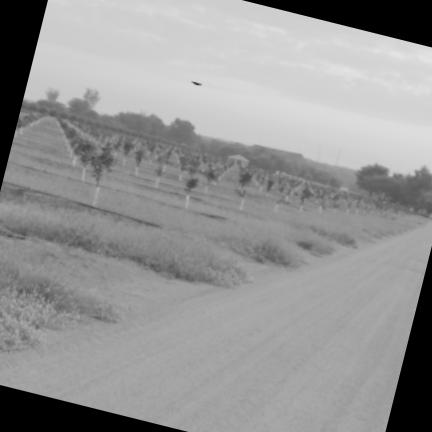Shahed: (190, 80, 202, 86)
